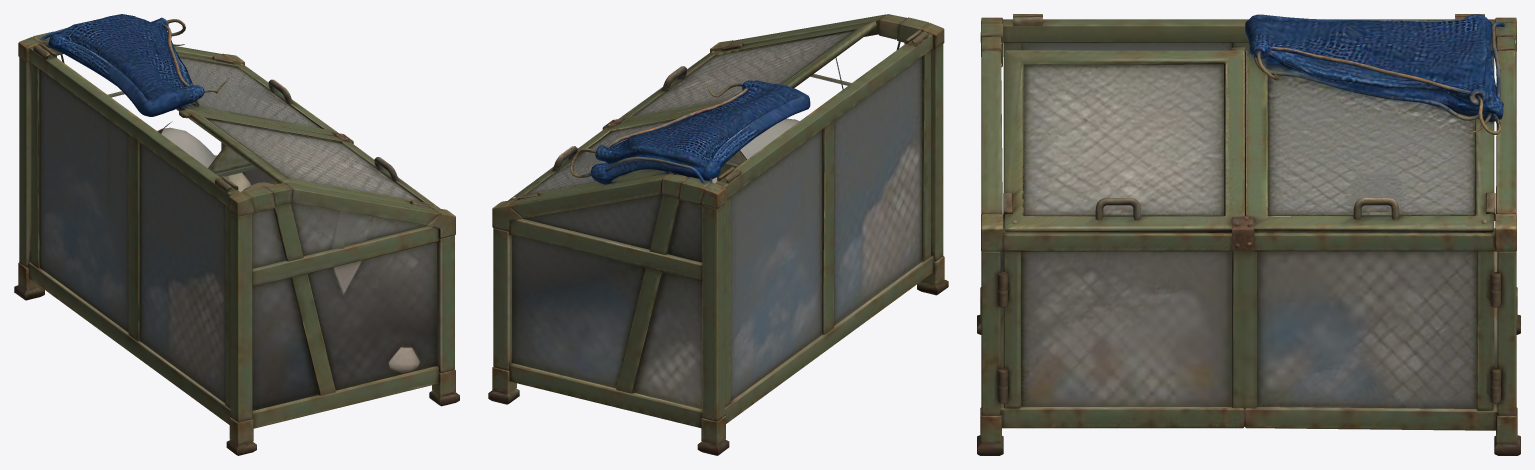
The model's file is garbage_station.glb.
3 renders of one model, left to right at view 1: azimuth 30°, elevation 25°; view 2: azimuth 150°, elevation 25°; view 3: azimuth 270°, elevation 25°, orthographic. The views are drawn at different scales.
Parts seen in each view (by area): view 1: tripo_node_1e9ad15c-f81b-4210-97ad-3b55deac34b5; view 2: tripo_node_1e9ad15c-f81b-4210-97ad-3b55deac34b5; view 3: tripo_node_1e9ad15c-f81b-4210-97ad-3b55deac34b5.
Part boxes in pixels (x1,y1,x2,y2): tripo_node_1e9ad15c-f81b-4210-97ad-3b55deac34b5: (14,14,459,455); tripo_node_1e9ad15c-f81b-4210-97ad-3b55deac34b5: (488,14,948,455); tripo_node_1e9ad15c-f81b-4210-97ad-3b55deac34b5: (977,14,1520,455).
Size of the model in its own units: 0.5825 by 0.6743 by 0.9995.
1 material, 1 textured.
